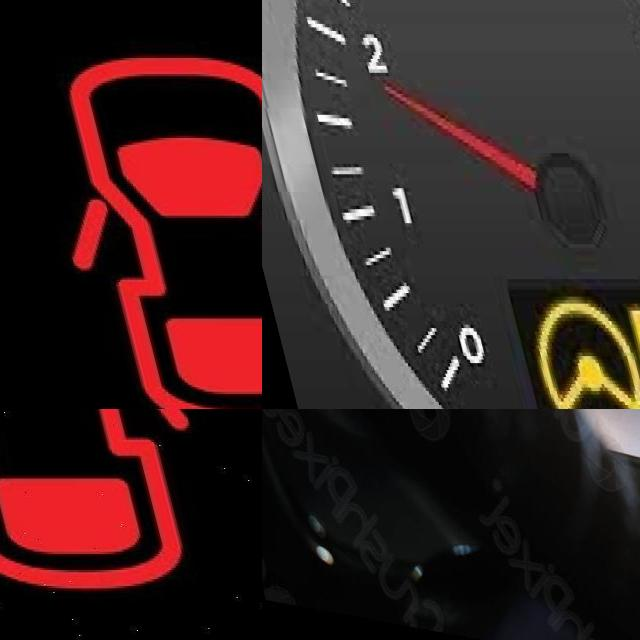Electronic Power Steering: (499, 298, 640, 409)
